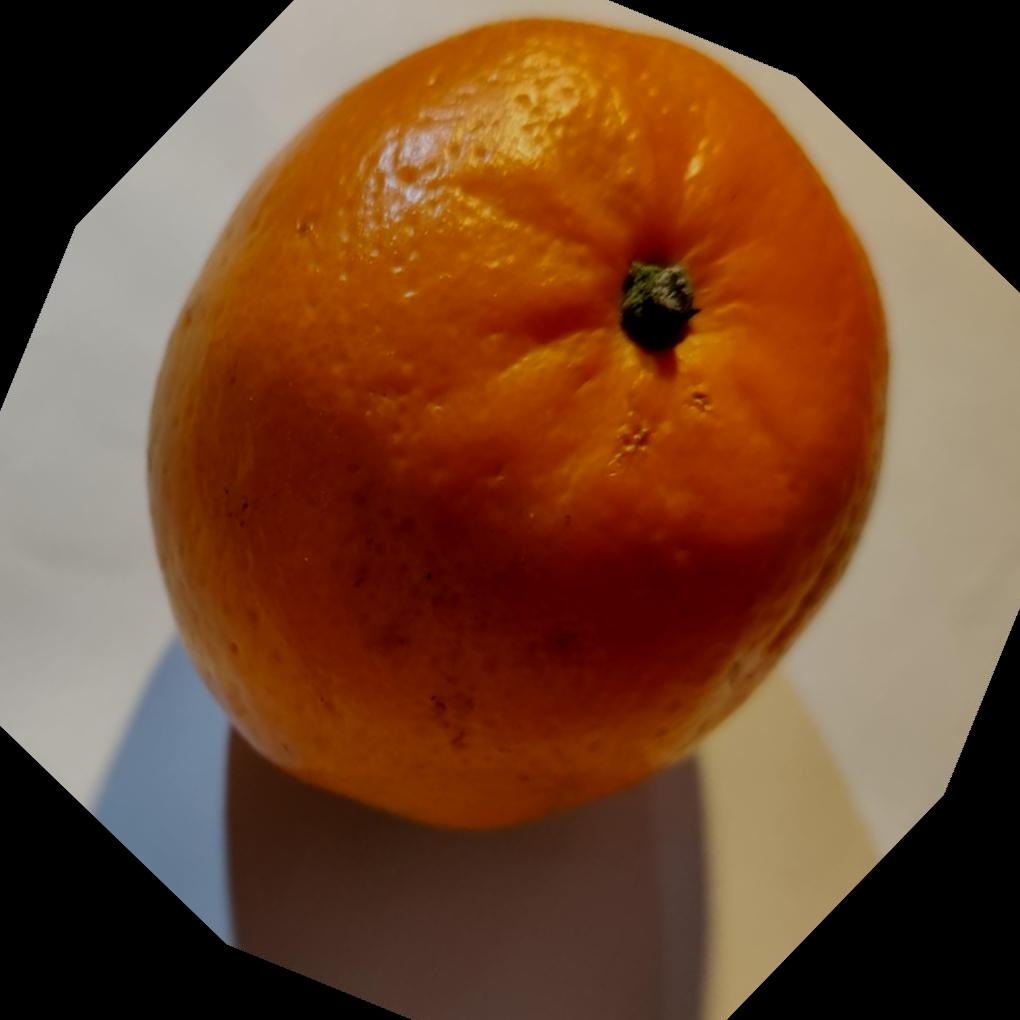FreshGuava: (141, 15, 889, 836)
